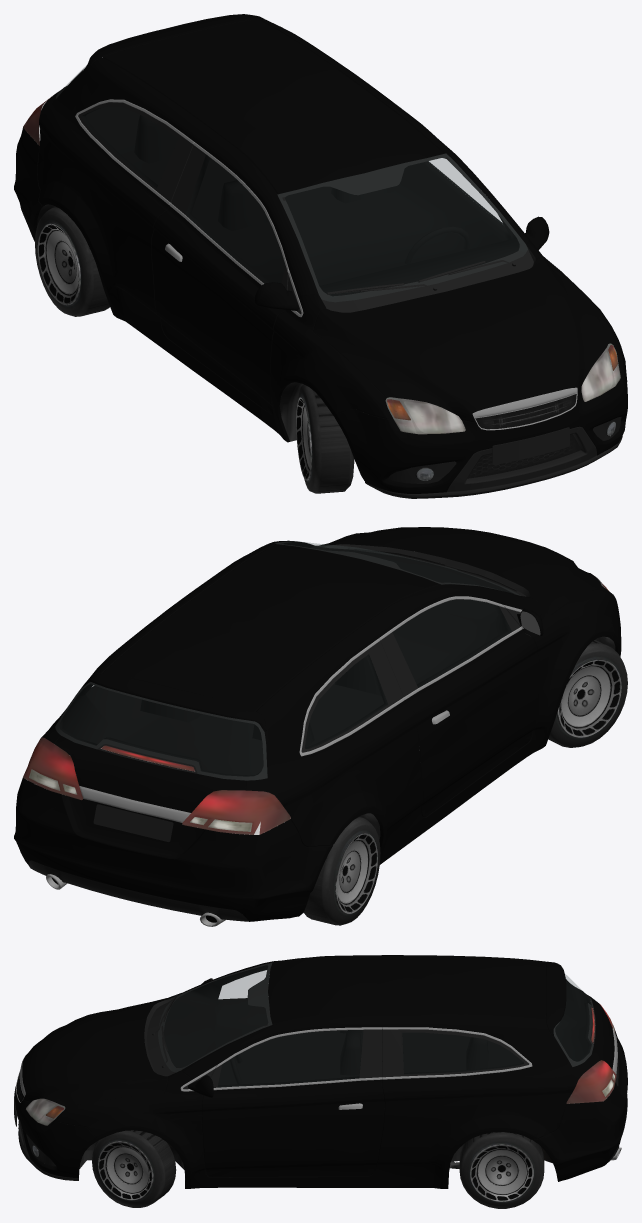
The model's file is car-coupe07.glb.
The picture shows the model from 3 angles, top to bottom: view 1: azimuth 30°, elevation 25°; view 2: azimuth 150°, elevation 25°; view 3: azimuth 270°, elevation 25°; orthographic projection. The views are drawn at different scales.
Visible parts, largest first — view 1: body, interior_void_0, glass, doors, bumper_front, glass_trim, wheel_3_rimstock_14_0, wheel_4_rimstock_14_0, glass_light, grill_grill_0, spoiler, numberplate (+4 smaller); view 2: body, doors, interior_void_0, glass, glass_light, wheel_4_rimstock_14_0, wheel_3_rimstock_14_0, glass_trim, spoiler, rear_splitter_plastic_0, numberplate; view 3: body, doors, interior_void_0, glass, wheel_2_rimstock_14_0, wheel_1_rimstock_14_0, bumper_front, glass_trim, glass_light, spoiler, bottom, sidemirrors_body_0.
Boxes of the visible parts, x1,y1,x2,y2 form: body: (14, 19, 622, 442); interior_void_0: (60, 86, 519, 296); glass: (56, 66, 527, 301); doors: (151, 142, 504, 414); bumper_front: (334, 345, 627, 498); glass_trim: (56, 68, 535, 312); wheel_3_rimstock_14_0: (35, 207, 109, 316); wheel_4_rimstock_14_0: (296, 384, 354, 493); glass_light: (23, 96, 620, 480); grill_grill_0: (467, 394, 580, 478); spoiler: (83, 14, 264, 70); numberplate: (492, 427, 569, 464); body: (14, 527, 616, 921); doors: (379, 596, 538, 816); interior_void_0: (59, 541, 513, 776); glass: (56, 541, 517, 779); glass_light: (23, 572, 608, 834); wheel_4_rimstock_14_0: (548, 639, 627, 747); wheel_3_rimstock_14_0: (304, 816, 380, 925); glass_trim: (55, 541, 530, 780); spoiler: (83, 673, 266, 731); rear_splitter_plastic_0: (29, 860, 249, 921); numberplate: (93, 804, 173, 841); body: (22, 955, 627, 1188); doors: (202, 1027, 384, 1176); interior_void_0: (163, 965, 591, 1092); glass: (158, 963, 592, 1073); wheel_2_rimstock_14_0: (459, 1132, 544, 1208); wheel_1_rimstock_14_0: (92, 1130, 176, 1207); bumper_front: (15, 1085, 98, 1180); glass_trim: (144, 962, 593, 1076); glass_light: (26, 1004, 616, 1156); spoiler: (546, 961, 566, 1035); bottom: (79, 1094, 571, 1187); sidemirrors_body_0: (188, 978, 213, 1097).
Size of the model in its own units: 77.63 by 52.67 by 168.
10 materials, 4 textured.
